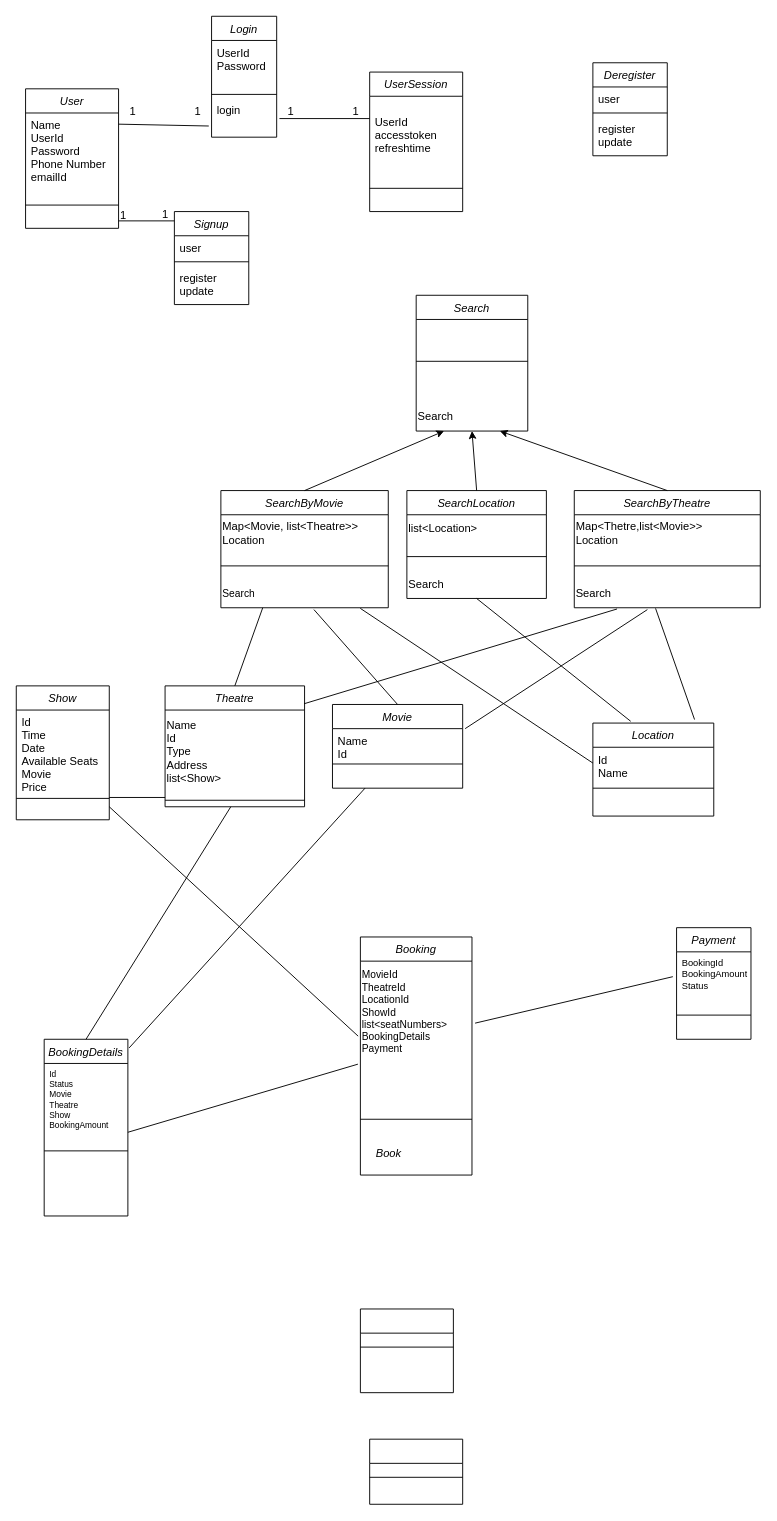
Some shapes in this 777 by 1521 pixel diagram are drawn without their labels. Each missing label, with the centre of its shape:
Cancel Booking: point (406, 1350)
Ticketing: point (416, 1471)
